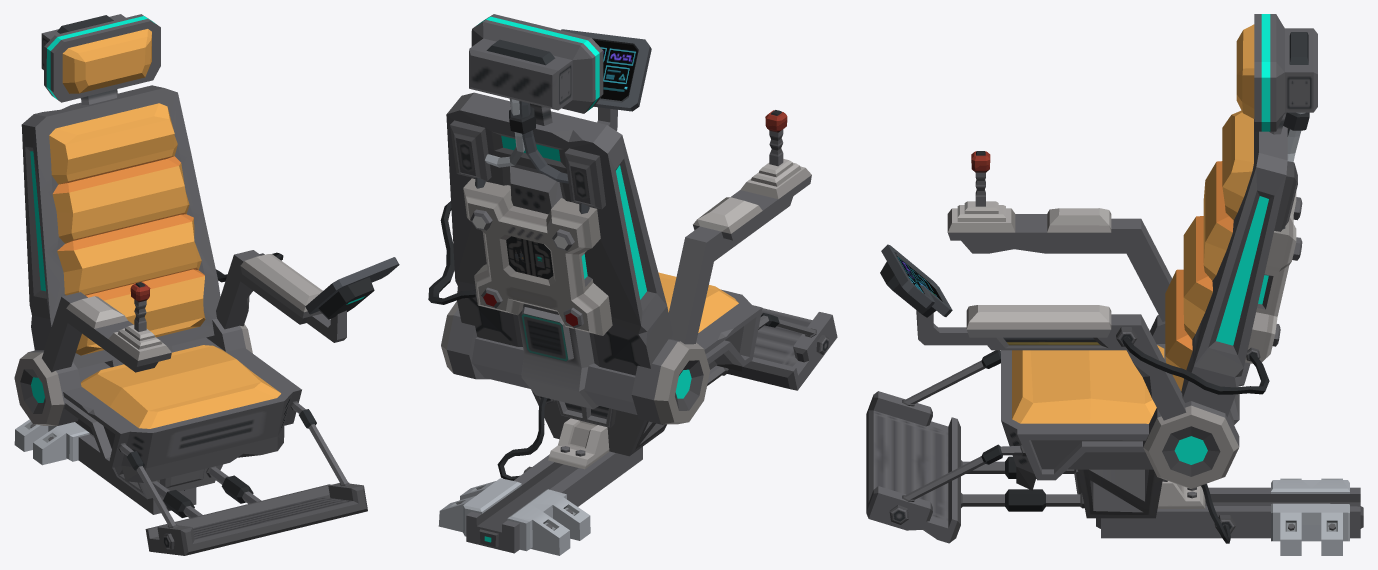
File: SM_Prop_Computer_Chair_01.fbx
The picture shows the model from 3 angles, left to right: view 1: azimuth 30°, elevation 25°; view 2: azimuth 150°, elevation 25°; view 3: azimuth 270°, elevation 25°; orthographic projection. The views are drawn at different scales.
Parts seen in each view (by area): view 1: SM_Prop_Computer_Chair_01; view 2: SM_Prop_Computer_Chair_01; view 3: SM_Prop_Computer_Chair_01.
Part boxes in pixels (left/top/right/bottom): SM_Prop_Computer_Chair_01: left=14, top=14, right=399, bottom=555; SM_Prop_Computer_Chair_01: left=428, top=14, right=837, bottom=555; SM_Prop_Computer_Chair_01: left=866, top=14, right=1363, bottom=555.
Bounding box in the file's own units: 87.79 × 147 × 136.
